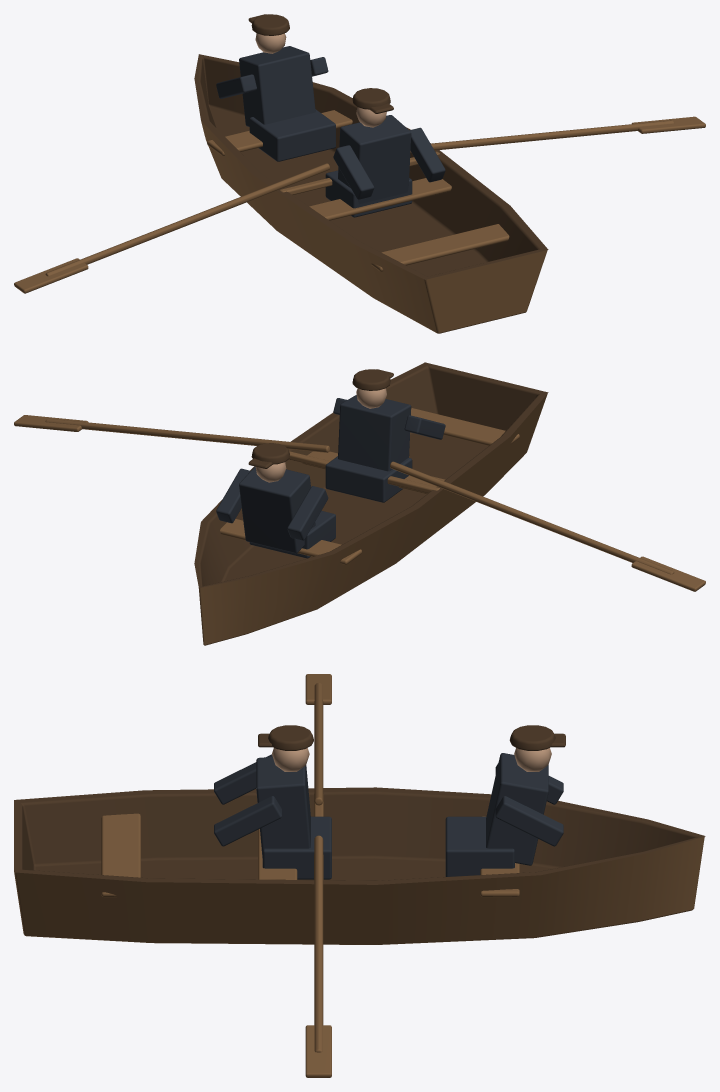
The model's file is schouw.glb.
3 renders of one model, top to bottom at view 1: azimuth 30°, elevation 25°; view 2: azimuth 150°, elevation 25°; view 3: azimuth 270°, elevation 25°, orthographic. The views are drawn at different scales.
Parts seen in each view (by area): view 1: Hull, Passenger, Rower, OarL, OarR; view 2: Hull, Rower, Passenger, OarL, OarR; view 3: Hull, Passenger, Rower, OarR, OarL.
Boxes of the visible parts, bbox=[...] form: Hull: bbox=[194, 54, 548, 333]; Passenger: bbox=[216, 14, 335, 161]; Rower: bbox=[325, 88, 445, 217]; OarL: bbox=[14, 163, 329, 293]; OarR: bbox=[410, 116, 705, 152]; Hull: bbox=[194, 362, 548, 645]; Rower: bbox=[325, 369, 445, 502]; Passenger: bbox=[216, 443, 335, 558]; OarL: bbox=[390, 461, 705, 591]; OarR: bbox=[14, 415, 329, 452]; Hull: bbox=[14, 787, 705, 944]; Passenger: bbox=[445, 725, 565, 876]; Rower: bbox=[214, 725, 331, 879]; OarR: bbox=[305, 835, 331, 1077]; OarL: bbox=[305, 674, 331, 805].
Size of the model in its own units: 5.75 by 1.19 by 4.2.
